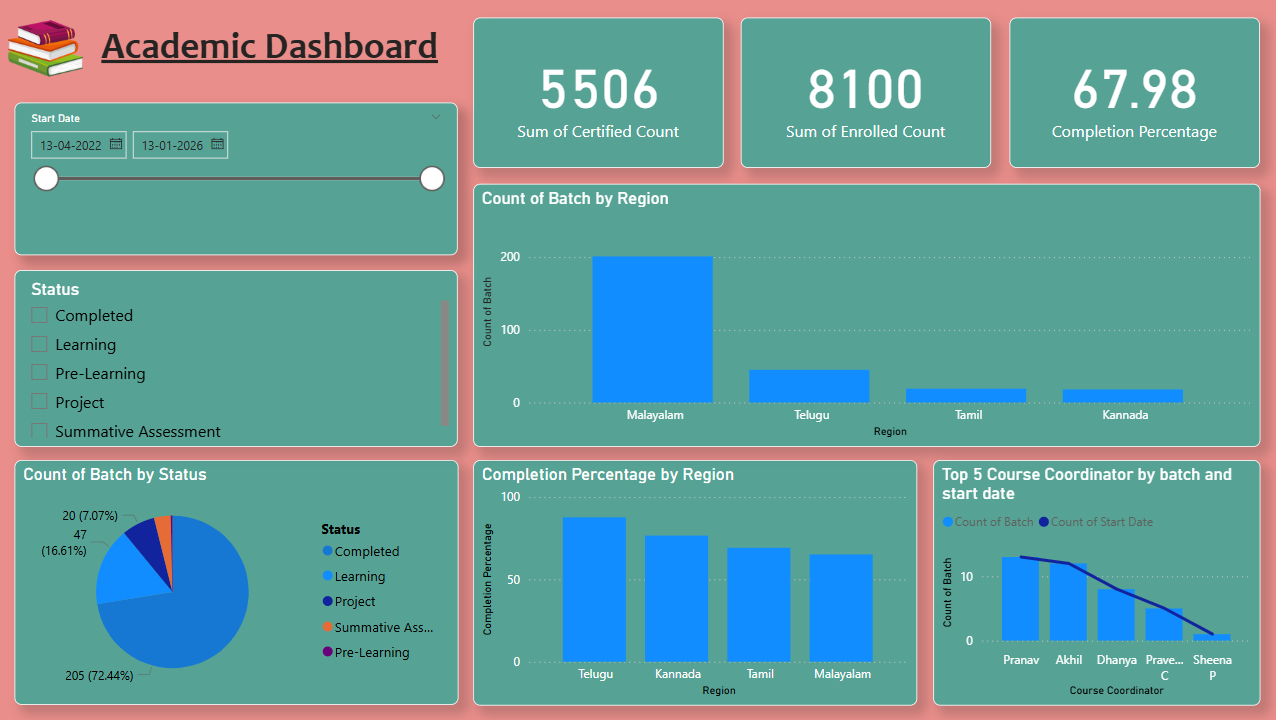

The dashboard page shown, as its layout file describes it:
{"tool":"powerbi","page":{"name":"Page 1","canvas":[1280,720],"ordinal":0},"visuals":[{"type":"textbox","box":[51.4,17.1,442.9,75.7],"z":0,"group":"g1"},{"type":"card","fields":{"Values":["Academic data.Certified Count"]},"box":[475.7,17.1,250,150],"z":0},{"type":"image","box":[0,0,97.1,97.1],"z":1000,"group":"g1"},{"type":"card","fields":{"Values":["Academic data.Enrolled Count"]},"box":[744.3,17.1,250,150],"z":1000},{"type":"clusteredColumnChart","fields":{"Category":["Academic data.Region"],"Y":["Academic data.Completion Percentage"]},"box":[475.7,460,444.3,245.7],"z":2000},{"type":"card","fields":{"Values":["Academic data.Completion Percentage"]},"box":[1012.9,17.1,250,150],"z":3000},{"type":"pieChart","fields":{"Category":["Academic data.Status"],"Y":["Academic data.Batch"]},"box":[17.1,460,444.3,245],"z":4000},{"type":"slicer","fields":{"Values":["Academic data.Start Date"]},"box":[17.1,102.9,442.9,152.9],"z":5000},{"type":"slicer","fields":{"Values":["Academic data.Status"]},"box":[17.1,270,442.9,177.1],"z":6000},{"type":"columnChart","fields":{"Y":["Academic data.Batch"],"Category":["Academic data.Region"]},"box":[475.7,184.3,787.1,262.9],"z":7000},{"type":"lineStackedColumnComboChart","title":"Top 5 Course Coordinator by batch and start date","fields":{"Y2":["Academic data.Start Date"],"Category":["Academic data.Course Coordinator"],"Y":["Academic data.Batch"]},"box":[935.7,460,327.1,245.7],"z":8000},{"type":"group","id":"g1","title":"Group 1","box":[0,0,494.3,97.1],"z":9000}]}

Visuals, with their boxes in screenshot pixels (x1, y1, x2, y2), scaled from the page's 1280x720 canvas onto the 1276x720 screenshot:
textbox: box(51, 17, 493, 93)
card - Academic data.Certified Count: box(474, 17, 723, 167)
image: box(0, 0, 97, 97)
card - Academic data.Enrolled Count: box(742, 17, 991, 167)
clusteredColumnChart - Academic data.Region x Academic data.Completion Percentage: box(474, 460, 917, 706)
card - Academic data.Completion Percentage: box(1010, 17, 1259, 167)
pieChart - Academic data.Status x Academic data.Batch: box(17, 460, 460, 705)
slicer - Academic data.Start Date: box(17, 103, 459, 256)
slicer - Academic data.Status: box(17, 270, 459, 447)
columnChart - Academic data.Batch x Academic data.Region: box(474, 184, 1259, 447)
"Top 5 Course Coordinator by batch and start date" lineStackedColumnComboChart: box(933, 460, 1259, 706)
"Group 1" group: box(0, 0, 493, 97)
